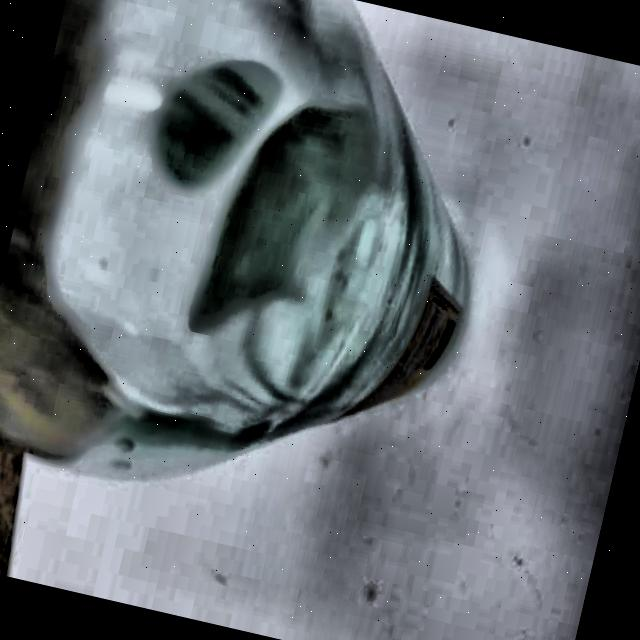glass: (0, 0, 532, 548)
